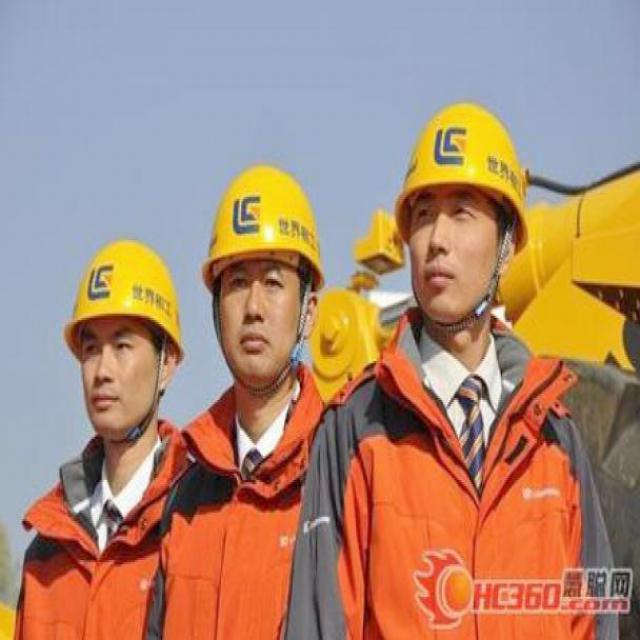helmet: (204, 151, 320, 411), (394, 82, 515, 329), (66, 221, 180, 443)
